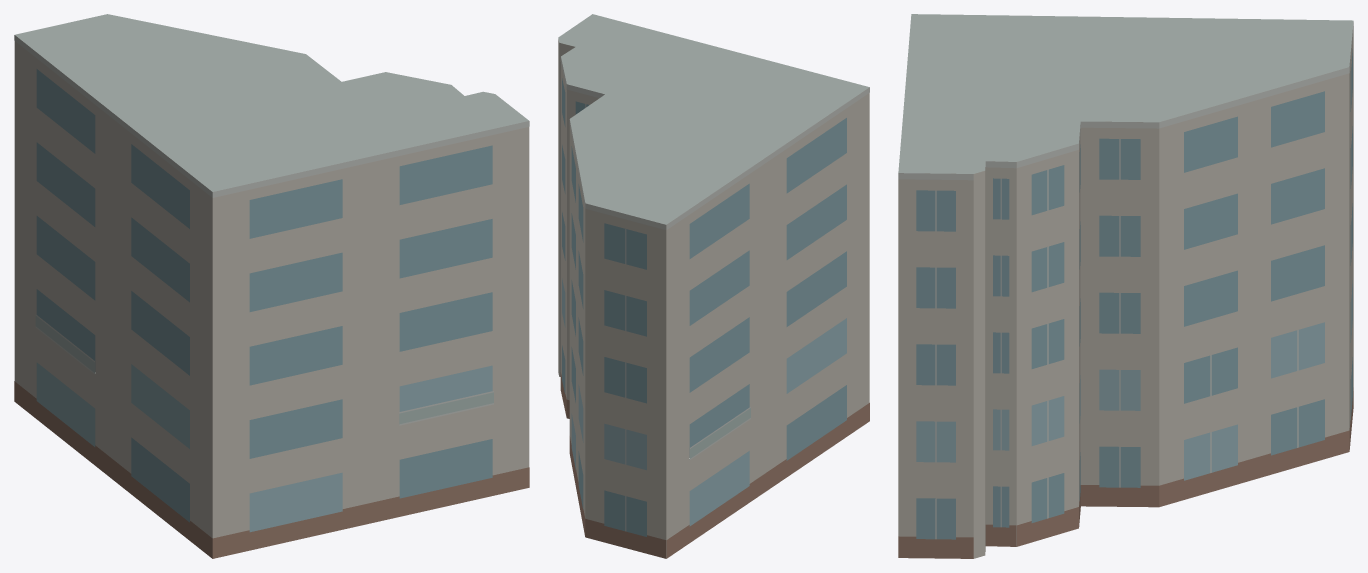
Rendered from survey-upis-32948325.glb.
The picture shows the model from 3 angles, left to right: view 1: azimuth 30°, elevation 25°; view 2: azimuth 150°, elevation 25°; view 3: azimuth 270°, elevation 25°; orthographic projection. The views are drawn at different scales.
Visible parts, largest first — view 1: survey-upis-32948325.tmp; view 2: survey-upis-32948325.tmp; view 3: survey-upis-32948325.tmp.
Part boxes in pixels (x1=…): survey-upis-32948325.tmp: x1=14, y1=14, x2=529, y2=558; survey-upis-32948325.tmp: x1=558, y1=14, x2=869, y2=558; survey-upis-32948325.tmp: x1=898, y1=14, x2=1353, y2=558.
Size of the model in its own units: 13.47 by 15.1 by 16.2.
